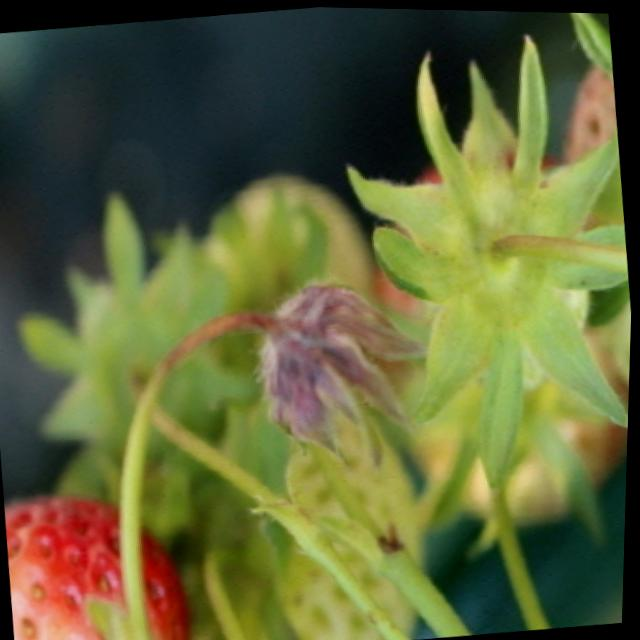Gray Mold: (240, 278, 428, 454)
